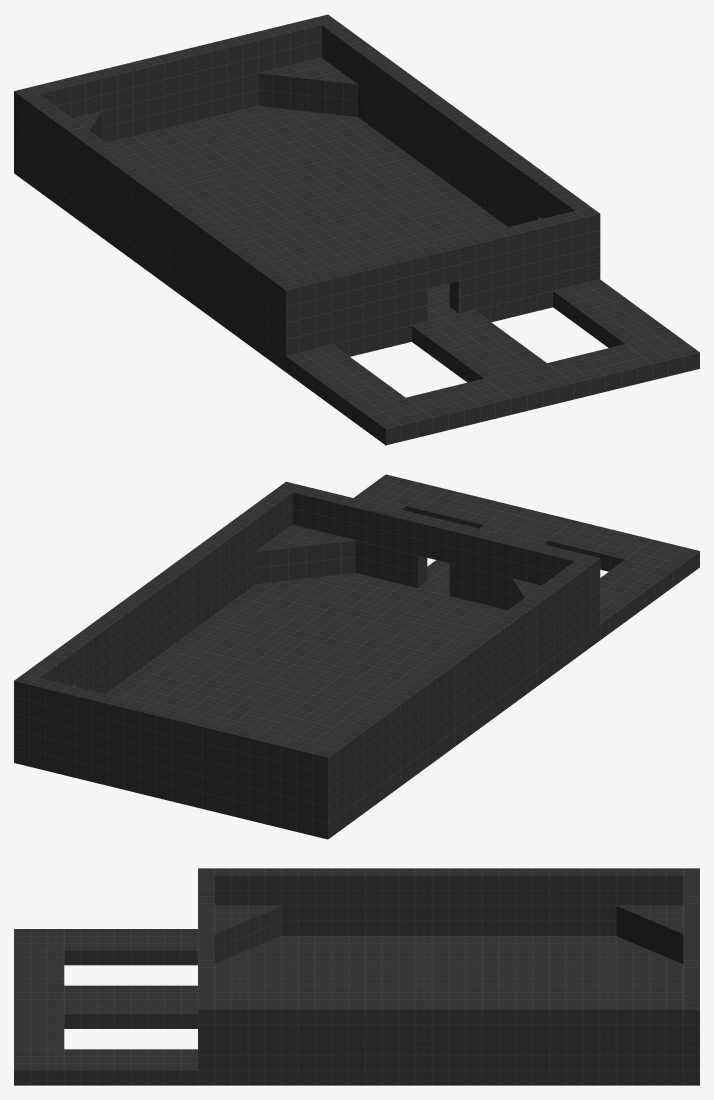
Rendered from level.fbx.
3 views of the same model, one above another, from view 1: azimuth 30°, elevation 25°; view 2: azimuth 150°, elevation 25°; view 3: azimuth 270°, elevation 25° (orthographic). The views are drawn at different scales.
Parts seen in each view (by area): view 1: level_rendering:Cube; view 2: level_rendering:Cube; view 3: level_rendering:Cube.
Part boxes in pixels (left/top/right/bottom): level_rendering:Cube: left=14, top=14, right=699, bottom=445; level_rendering:Cube: left=14, top=474, right=699, bottom=839; level_rendering:Cube: left=14, top=868, right=699, bottom=1085.
Bounding box in the file's own units: 20 × 5 × 41.
1 material, 1 textured.
